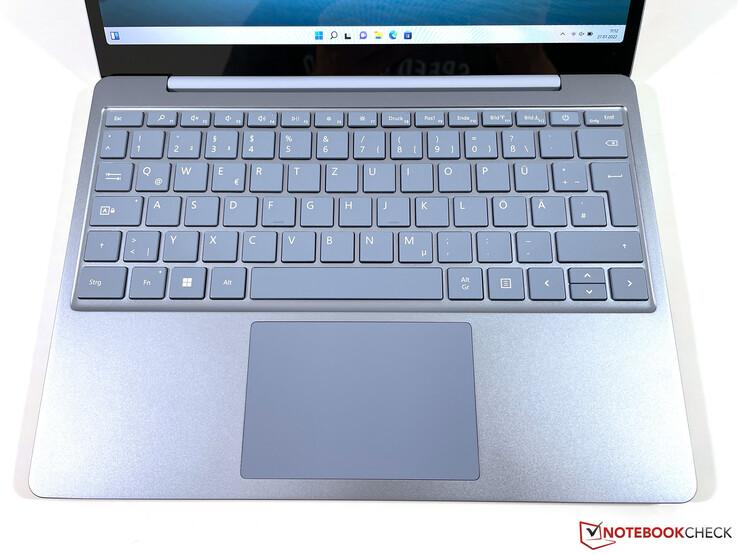0: (461, 127, 495, 156)
1: (127, 126, 162, 156)
2: (164, 126, 199, 156)
3: (202, 126, 236, 156)
4: (239, 127, 272, 156)
5: (276, 127, 309, 156)
6: (313, 127, 346, 157)
7: (350, 127, 383, 157)
8: (387, 127, 419, 157)
9: (424, 126, 457, 157)
a: (143, 192, 178, 224)
accent: (537, 126, 575, 157)
ae: (528, 192, 564, 224)
alt-left: (207, 263, 245, 297)
altgr-right: (444, 264, 482, 298)
b: (316, 227, 352, 260)
c: (239, 227, 275, 260)
caret: (98, 127, 125, 156)
comma: (434, 227, 470, 260)
d: (220, 193, 255, 225)
del: (575, 125, 627, 156)
e: (208, 159, 243, 190)
enter: (588, 158, 635, 223)
f: (259, 193, 293, 224)
g: (297, 193, 331, 224)
h: (335, 193, 369, 224)
hash: (567, 192, 603, 224)
i: (397, 159, 430, 190)
j: (374, 193, 407, 225)
k: (412, 193, 447, 224)
keyboard: (66, 98, 659, 313)
l: (451, 193, 485, 225)
less: (120, 226, 158, 260)
m: (395, 227, 430, 261)
minus: (512, 228, 549, 260)
n: (356, 227, 391, 260)
o: (434, 159, 468, 190)
oe: (489, 192, 525, 225)
p: (472, 158, 506, 189)
plus: (549, 157, 585, 189)
point: (474, 228, 509, 260)
q: (132, 158, 168, 190)
r: (247, 159, 280, 190)
s: (182, 193, 216, 224)
shift-left: (82, 227, 119, 260)
shift-lock: (87, 192, 141, 224)
shift-right: (553, 226, 640, 260)
space: (247, 263, 442, 299)
ss: (498, 126, 532, 156)
strg-left: (71, 262, 125, 297)
t: (284, 159, 318, 190)
tab: (93, 158, 131, 190)
u: (360, 159, 393, 191)
ue: (510, 158, 546, 190)
v: (278, 227, 313, 260)
w: (170, 158, 205, 189)
x: (199, 227, 236, 260)
y: (160, 227, 196, 260)
z: (322, 159, 355, 190)
